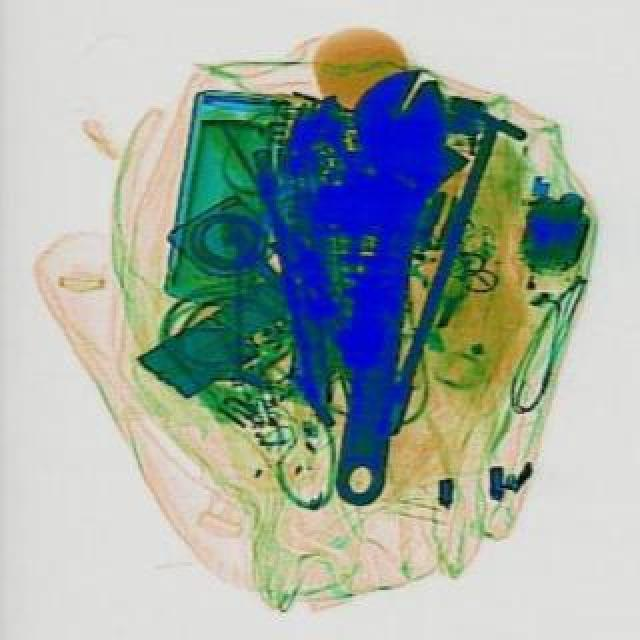scissors: (296, 70, 476, 514)
